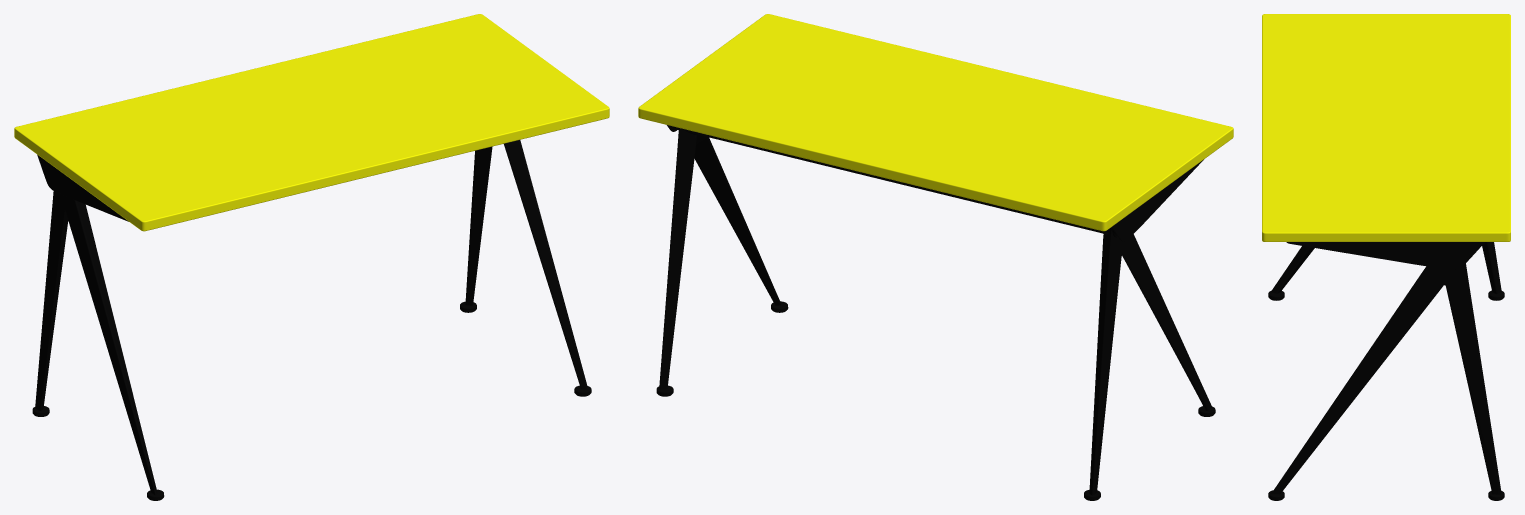
Rendered from desk.gltf.
The picture shows the model from 3 angles, left to right: view 1: azimuth 30°, elevation 25°; view 2: azimuth 150°, elevation 25°; view 3: azimuth 270°, elevation 25°; orthographic projection. The views are drawn at different scales.
Parts seen in each view (by area): view 1: Vitra_Compas_Direction_mat1; view 2: Vitra_Compas_Direction_mat1; view 3: Vitra_Compas_Direction_mat1.
Part boxes in pixels (box(x1,y1,x2,y2)): Vitra_Compas_Direction_mat1: box(14, 14, 609, 500); Vitra_Compas_Direction_mat1: box(638, 14, 1233, 500); Vitra_Compas_Direction_mat1: box(1262, 14, 1510, 500).
Bounding box in the file's own units: 1.25 × 0.73 × 0.6.
Materials: 3 (2 with a texture image).
